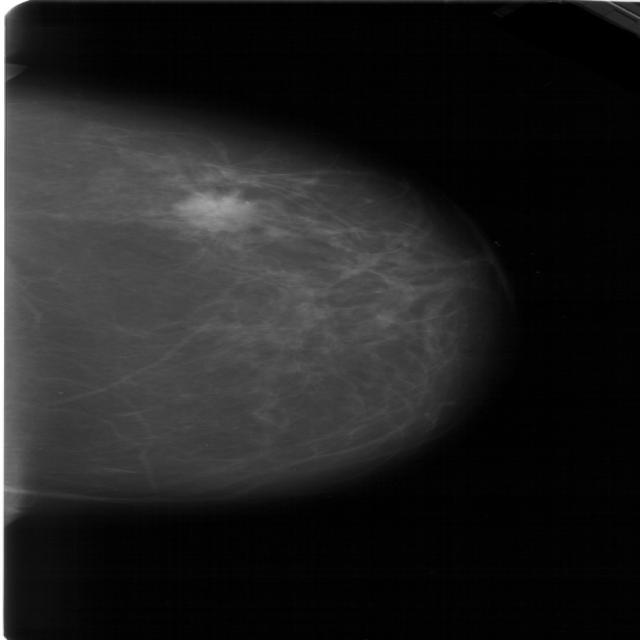tumour: (173, 190, 252, 229)
